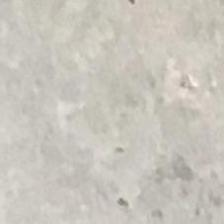Non_Crack: (22, 30, 199, 192)
